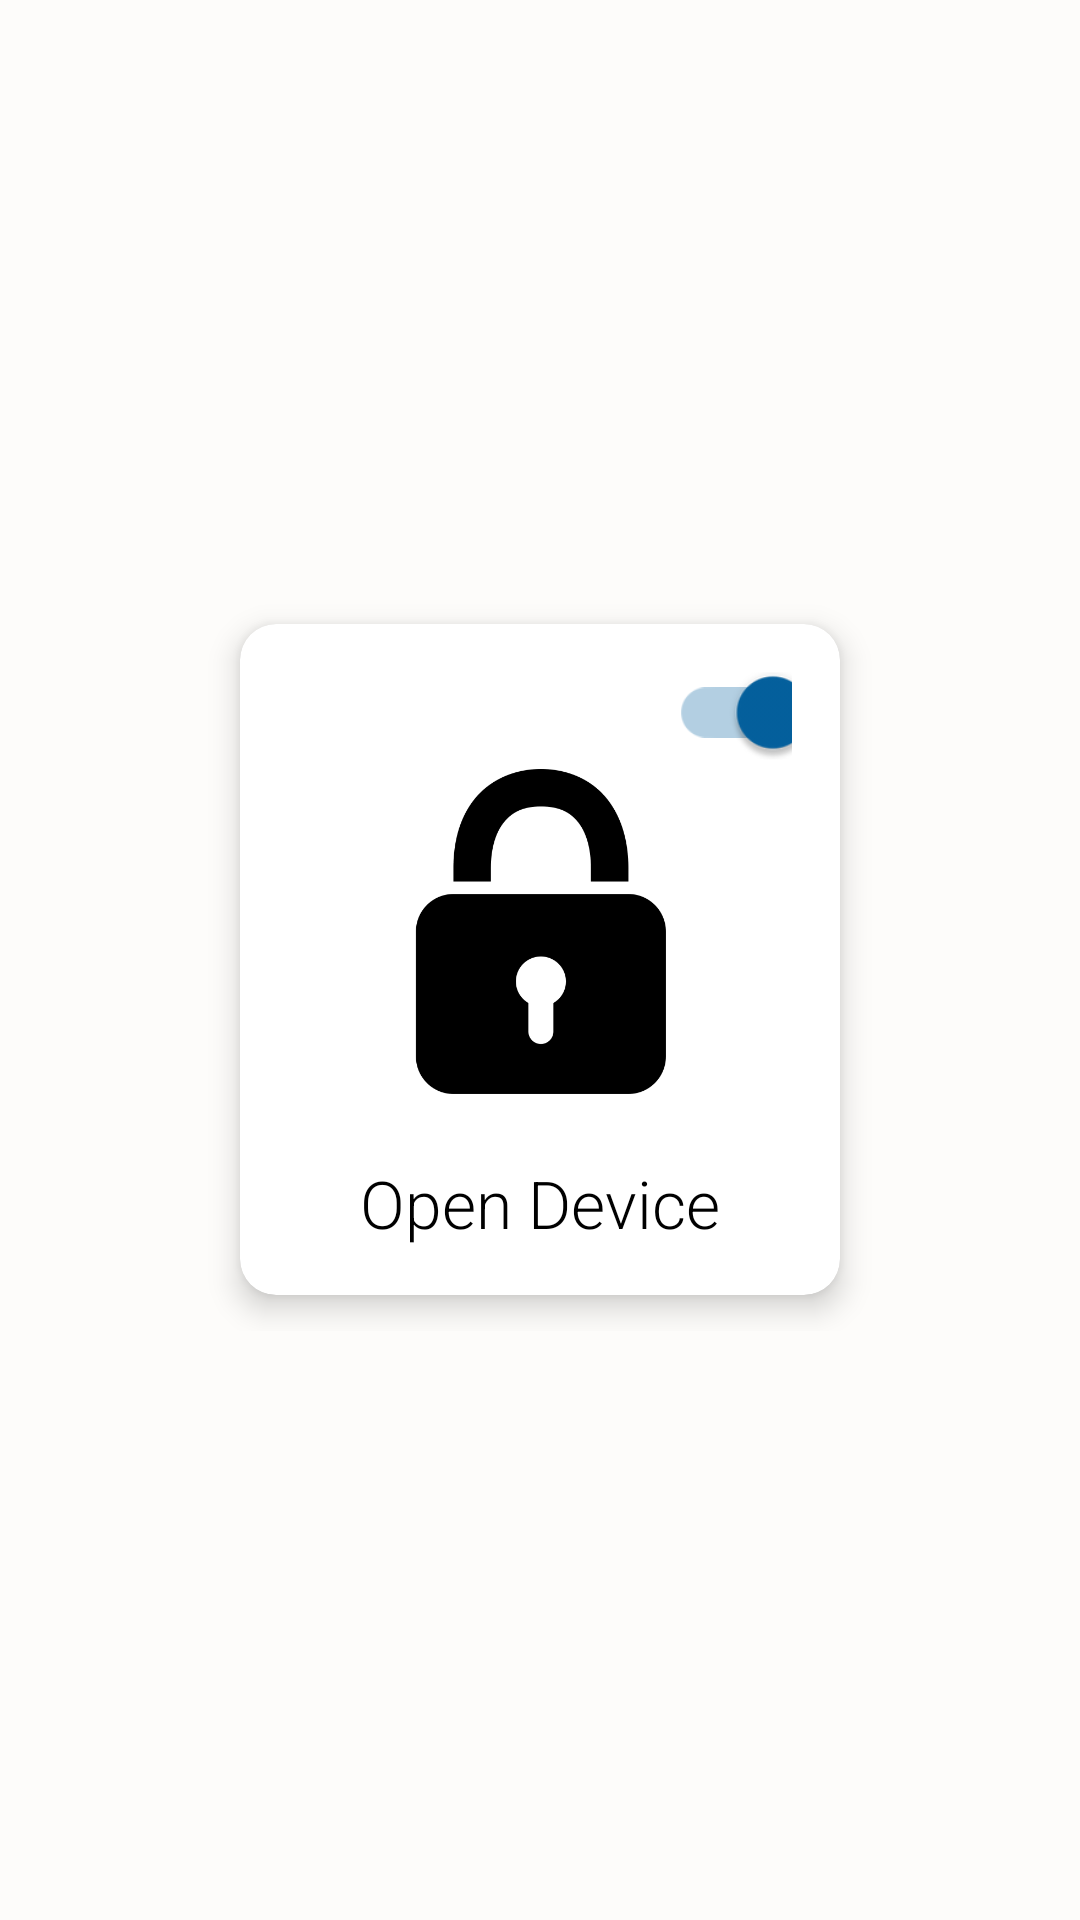

Where to tap for icons on this 1080w x 1920h app screen, as (x=x, y=y):
lock: (x=541, y=931)
